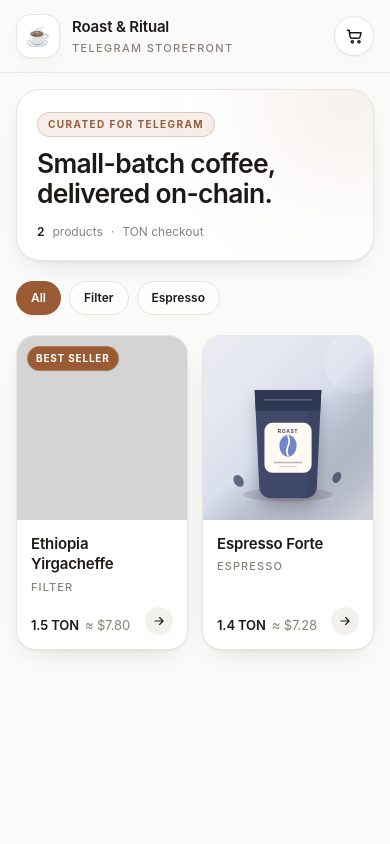
Scenario: <Catalog /> › filters the grid by category
This screenshot has width=390, height=844.
Check: the heading "Ethiopia Yirgacheffe" is shown, box [31,534,114,573]
Check: the heading "Espresso Forte" is shown, box [217,534,323,553]
Click the tab "Filter": (99, 298) [69,281,128,315]
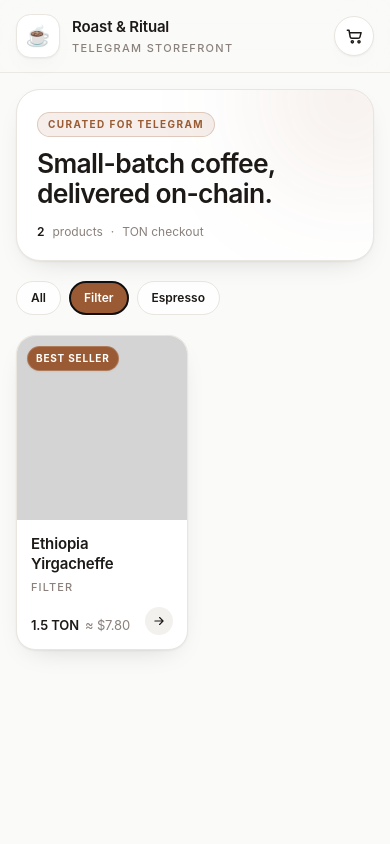
Check: the heading "Ethiopia Yirgacheffe" is shown, box [31,534,114,573]
Check: the link "Espresso Forte" is gone
